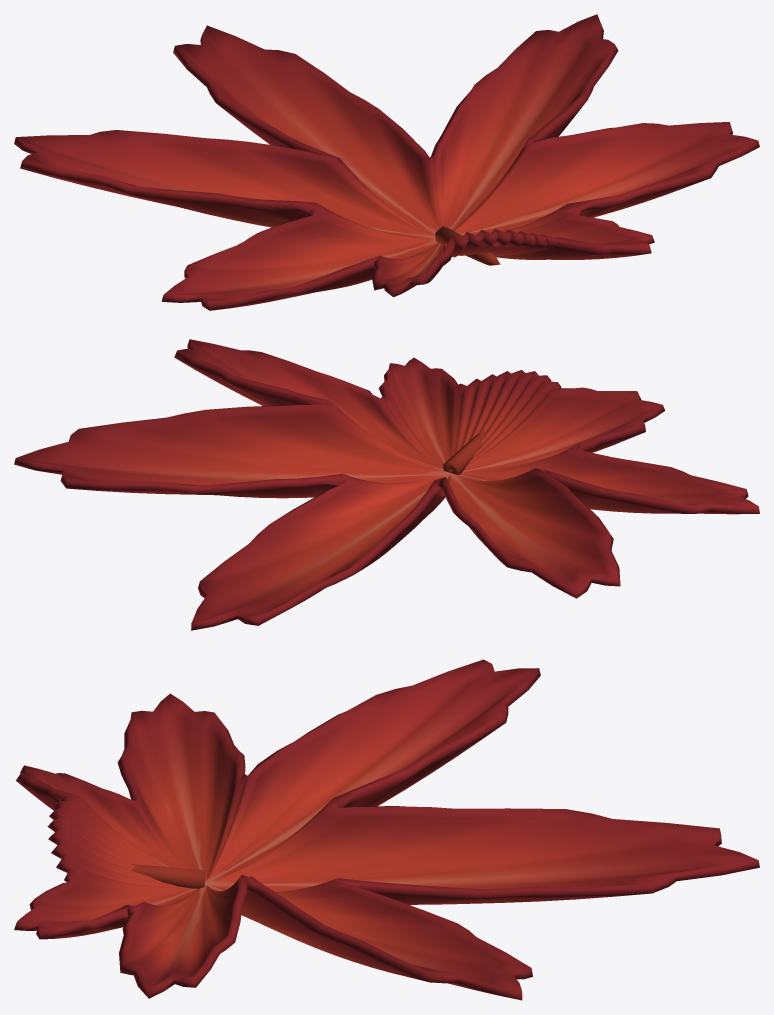
Rendered from Leaf_Maple_Red.fbx.
3 renders of one model, top to bottom at view 1: azimuth 30°, elevation 25°; view 2: azimuth 150°, elevation 25°; view 3: azimuth 270°, elevation 25°, orthographic. The views are drawn at different scales.
Parts seen in each view (by area): view 1: Leaf_Maple_Red; view 2: Leaf_Maple_Red; view 3: Leaf_Maple_Red.
Boxes of the visible parts, x1,y1,x2,y2 form: Leaf_Maple_Red: (14,14,759,310); Leaf_Maple_Red: (14,339,759,630); Leaf_Maple_Red: (14,659,759,1000).
Bounding box in the file's own units: 4.68 × 0.5052 × 4.57.
